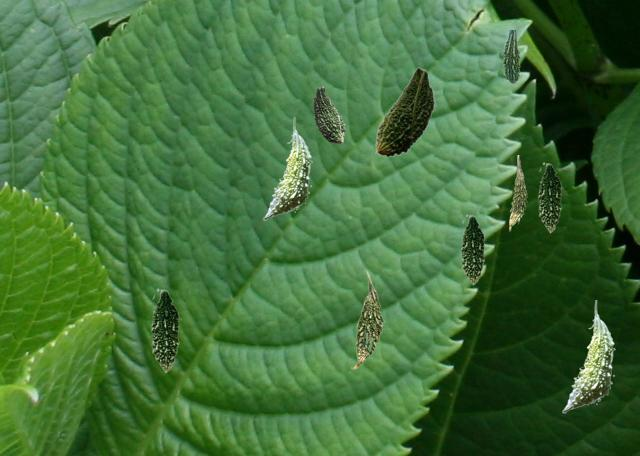ampalaya: (562, 300, 614, 412), (375, 67, 434, 156), (263, 117, 311, 219), (351, 270, 383, 368), (151, 288, 180, 372), (313, 85, 344, 142), (538, 162, 562, 232), (461, 214, 485, 284), (509, 155, 526, 230), (502, 30, 519, 82)
